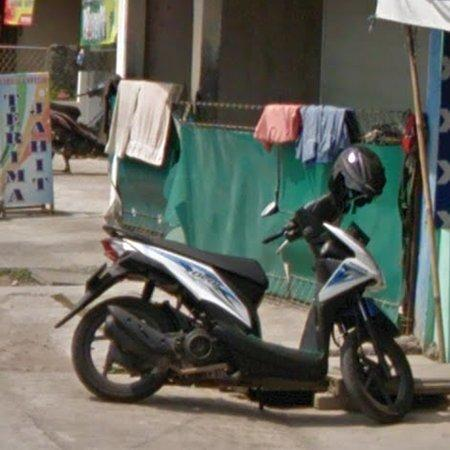motorcycles: (56, 145, 414, 423)
